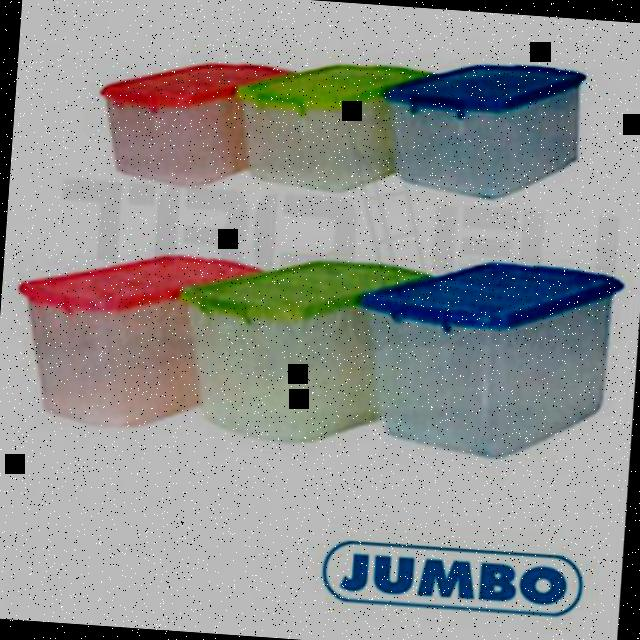plastic_box: (4, 229, 622, 464), (97, 34, 596, 212)
